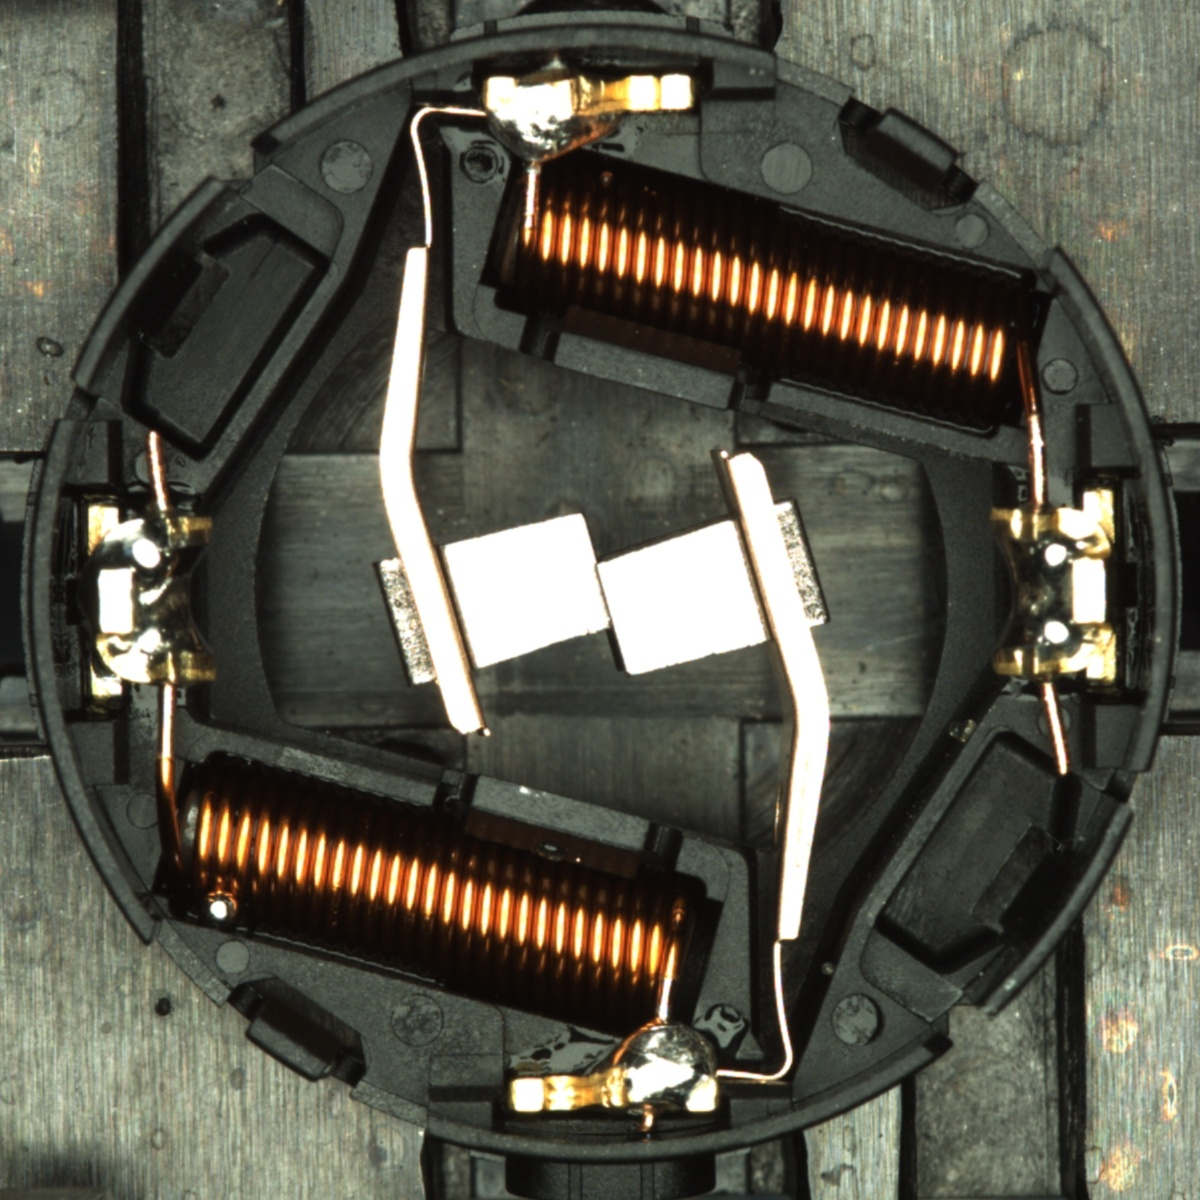1: (254, 32, 483, 256), (713, 930, 942, 1154)
2: (713, 32, 942, 256), (254, 930, 483, 1154)
3: (25, 256, 254, 481), (942, 705, 1171, 930)
4: (254, 256, 483, 481), (713, 705, 942, 930)
5: (483, 144, 713, 369), (483, 817, 713, 1042)
6: (713, 256, 942, 481), (254, 705, 483, 930)
7: (942, 256, 1171, 481), (25, 705, 254, 930)
bui_chi: (201, 890, 239, 928)
cacbon: (393, 499, 803, 687)
chau_dien: (81, 498, 221, 699), (984, 488, 1124, 688)
tay_choi: (482, 69, 699, 169), (508, 1018, 721, 1116)
thanh_de: (954, 787, 1141, 1032), (58, 164, 244, 405)
